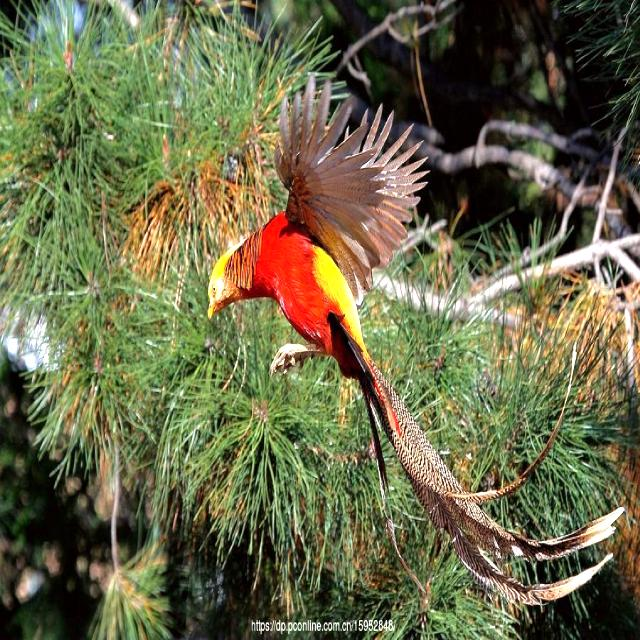Chrysolophus pictus feather: (351, 343, 624, 605)
